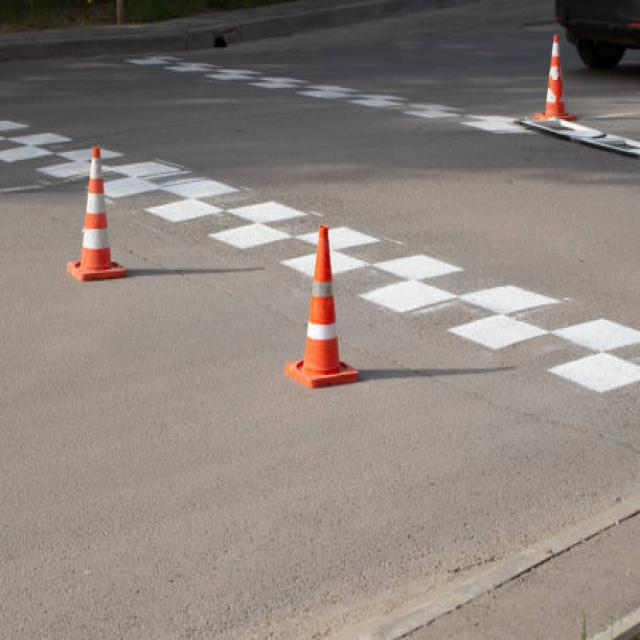Traffic Cone: (274, 209, 374, 399), (57, 131, 138, 298)
